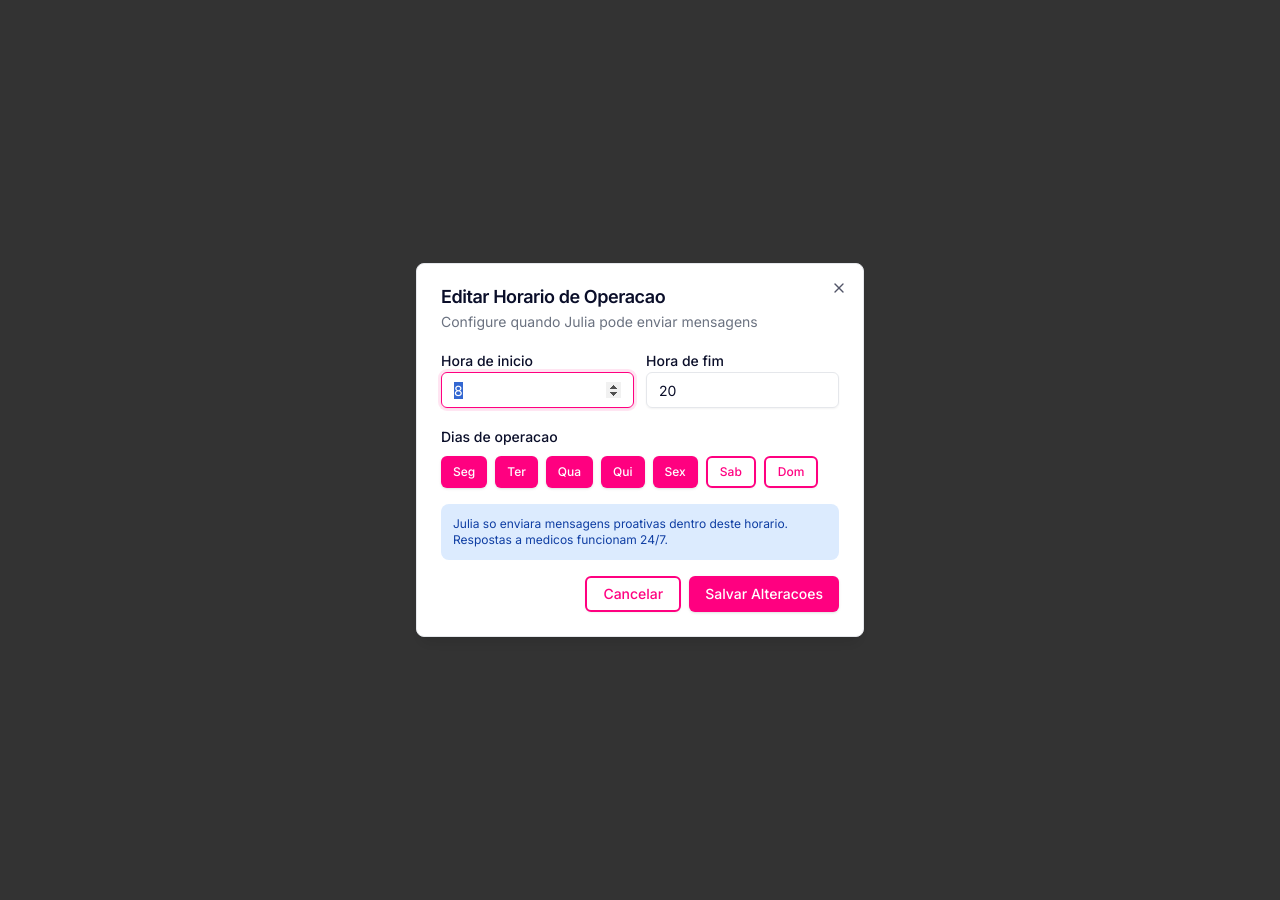
Test: EditScheduleModal › deve desabilitar salvar quando nenhum dia selecionado
What coordinates should you click on to do the following:
click the button "Seg"
I would click on:
 (464, 472)
Its box is [441, 456, 487, 488].
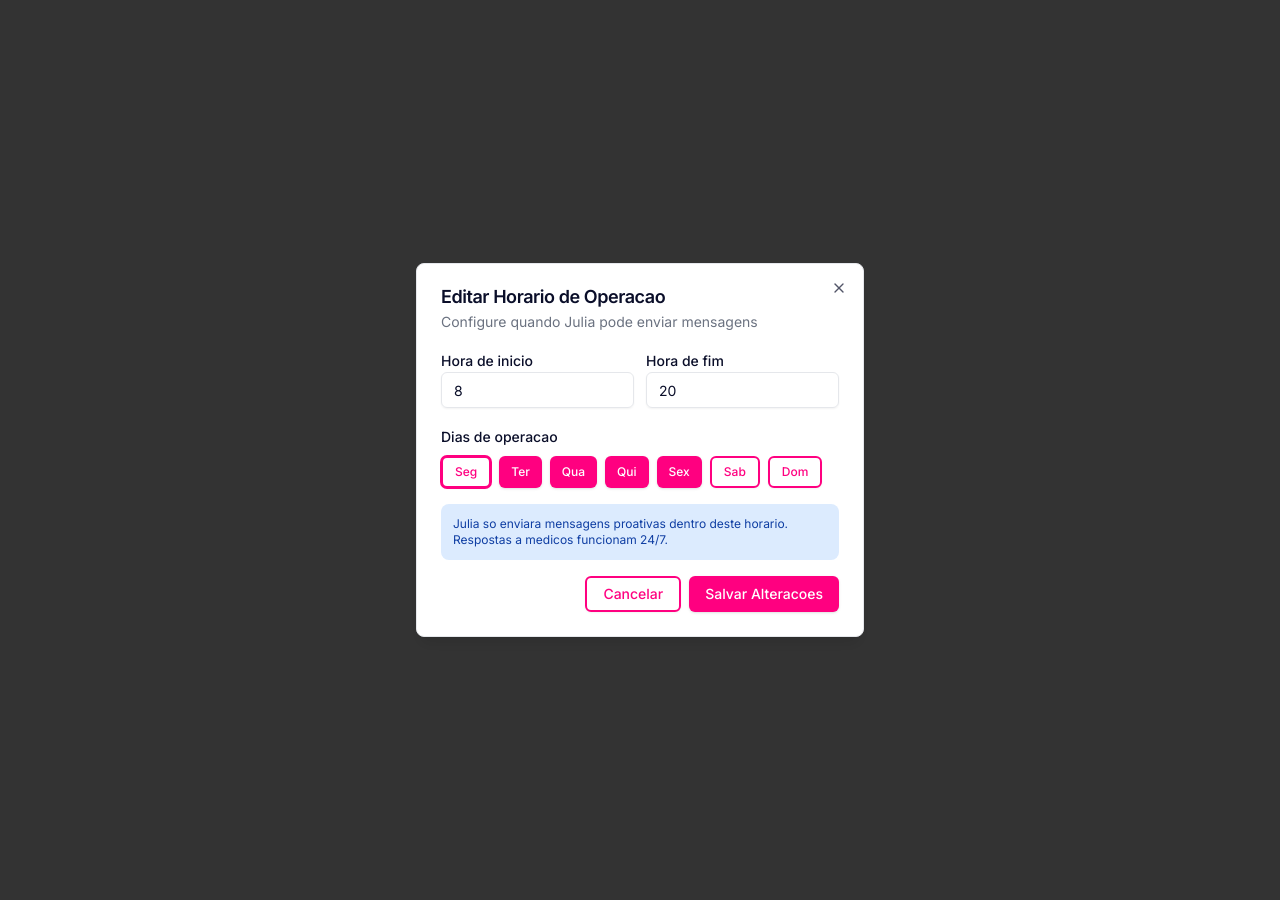
What coordinates should you click on to do the following:
click the button "Ter"
I would click on:
 (521, 472)
Its box is [499, 456, 542, 488].
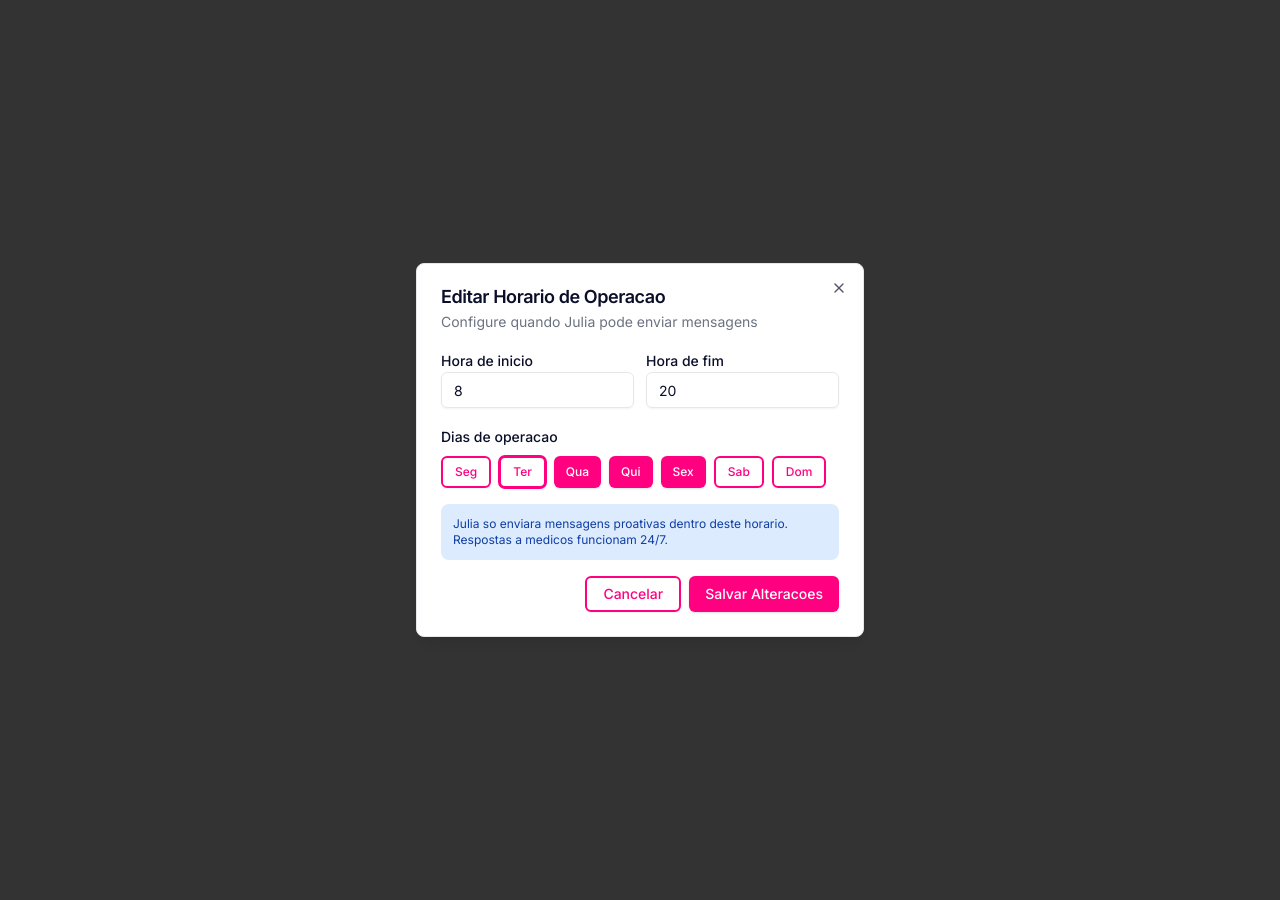
What coordinates should you click on to do the following:
click the button "Qua"
I would click on:
 (577, 472)
Its box is [554, 456, 601, 488].
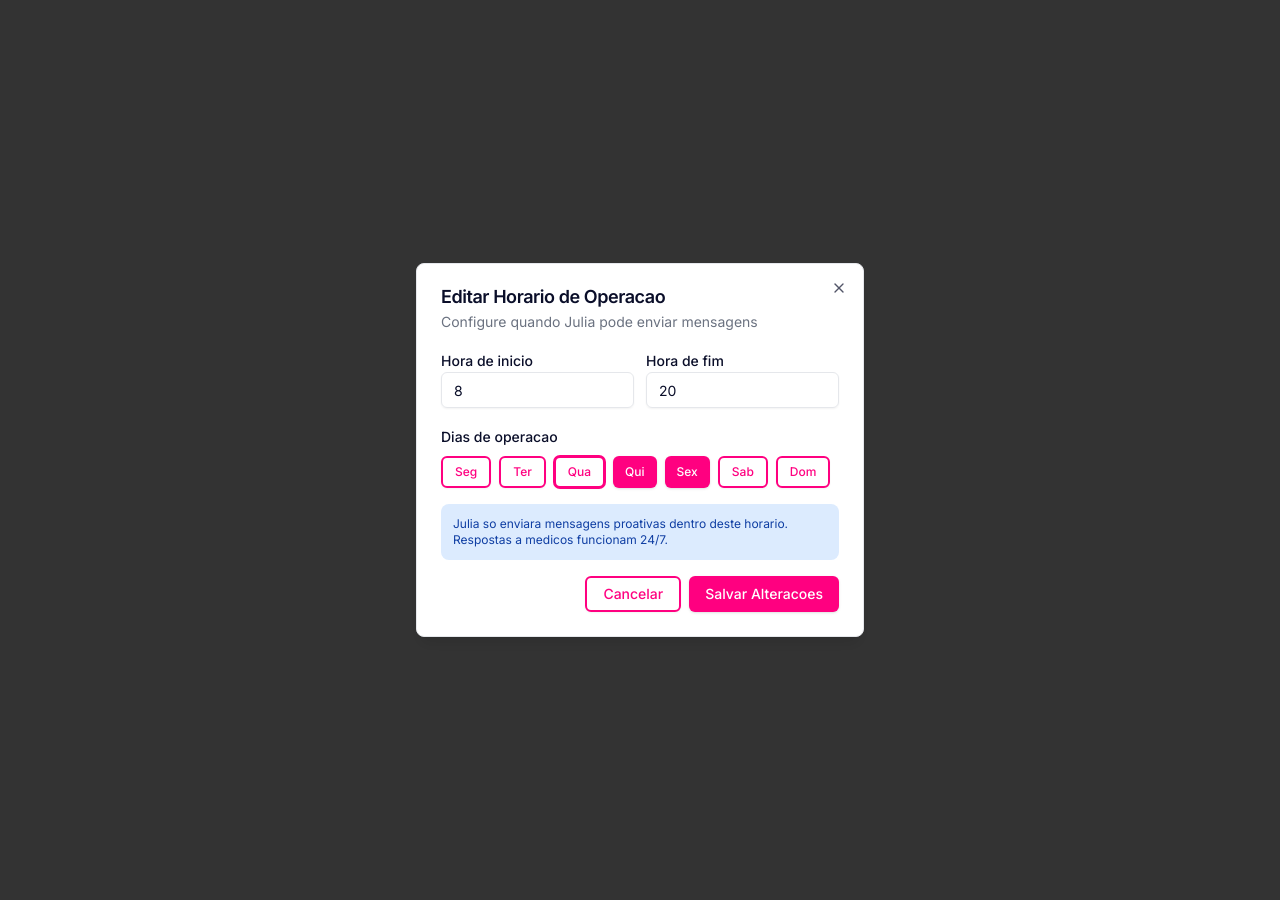
What coordinates should you click on to do the following:
click the button "Qui"
I would click on:
 (635, 472)
Its box is [613, 456, 657, 488].
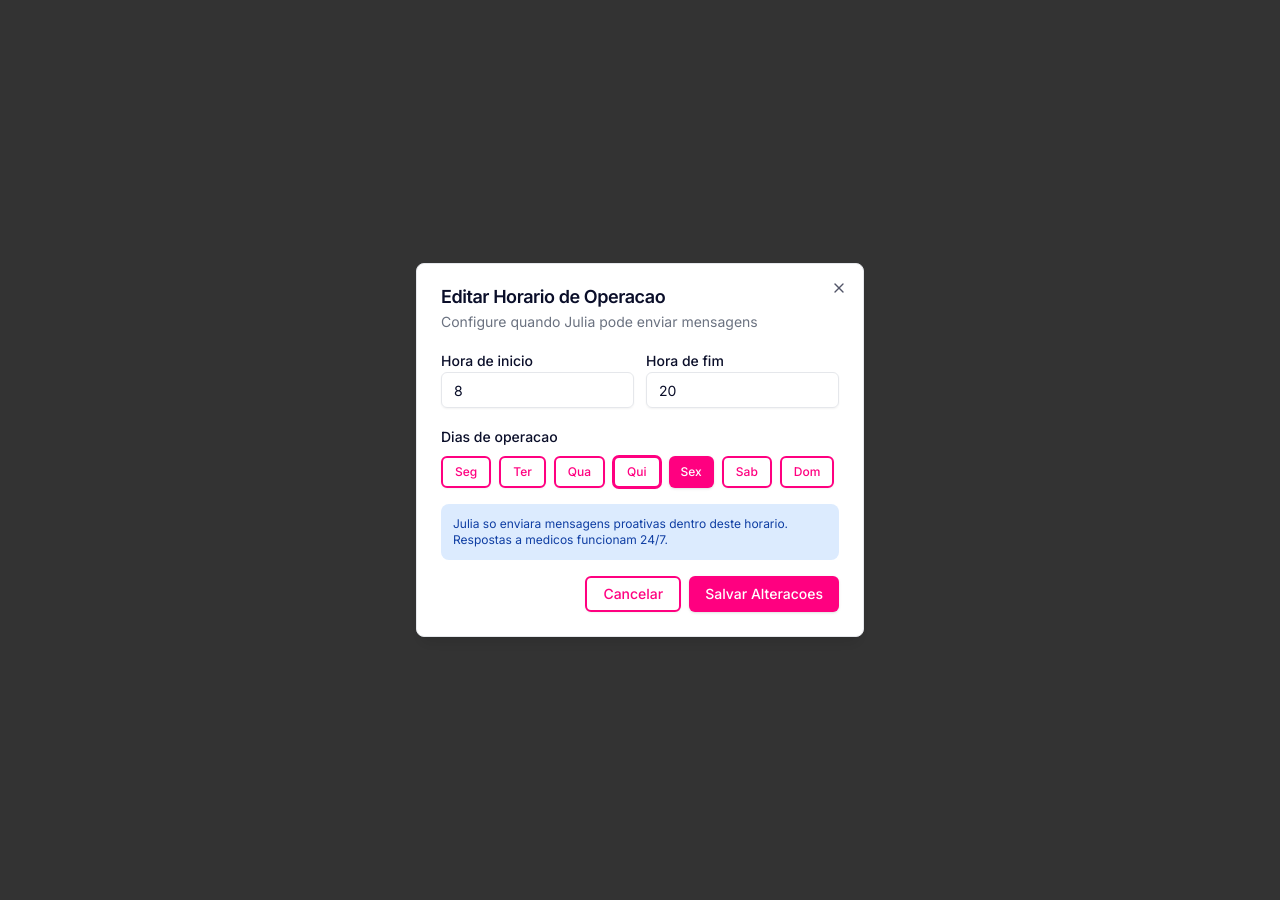
What coordinates should you click on to do the following:
click the button "Sex"
I would click on:
 (691, 472)
Its box is [669, 456, 714, 488].
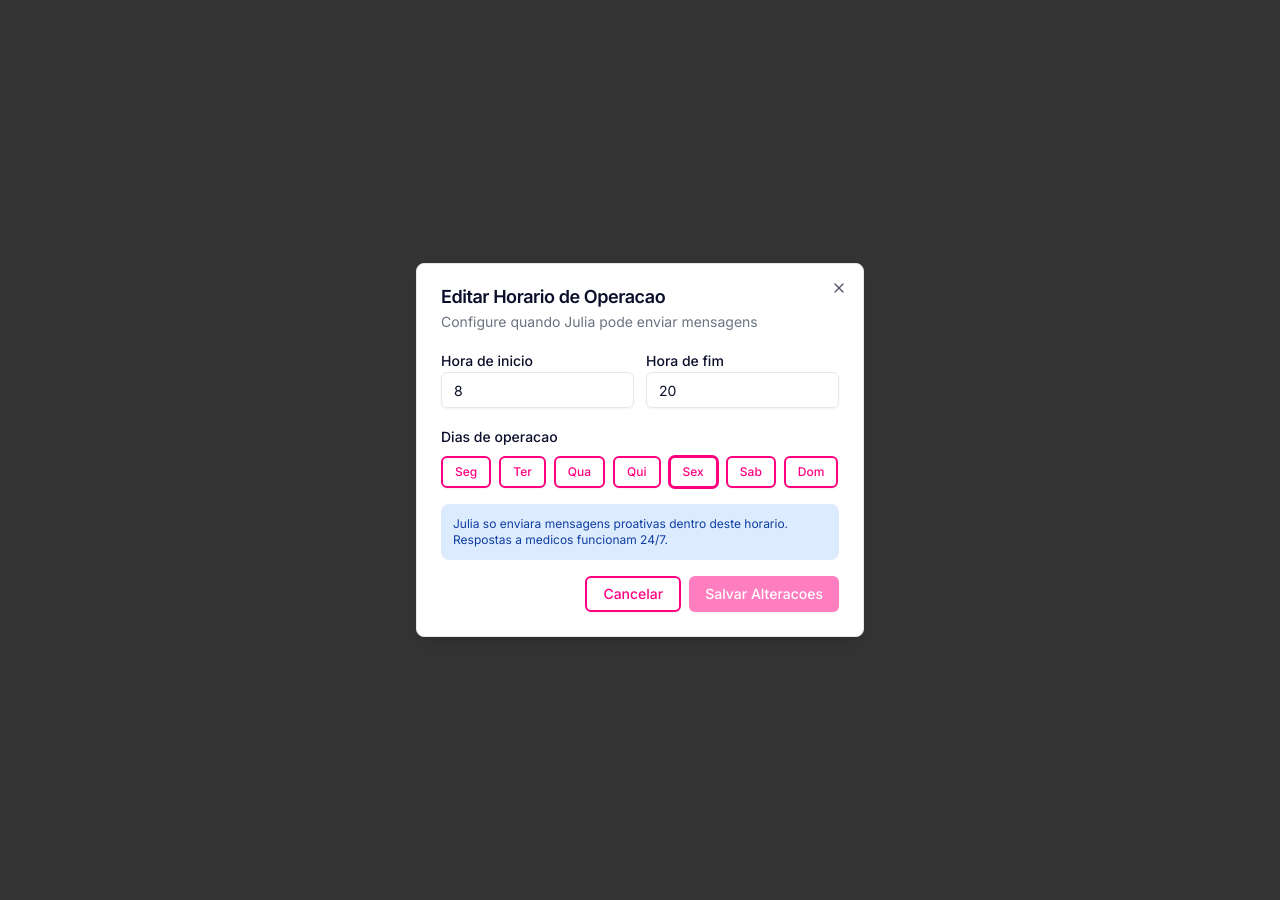
Now the button "Salvar Alteracoes" is disabled, box [689, 576, 839, 612]
